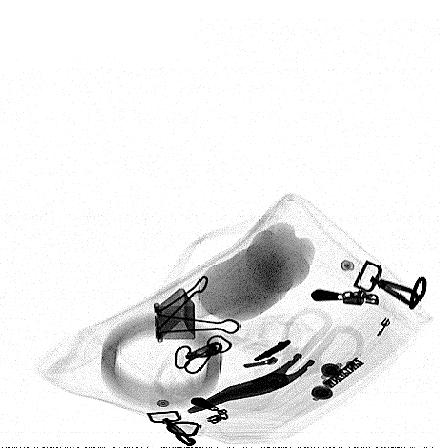Scissors: (185, 309, 365, 415)
